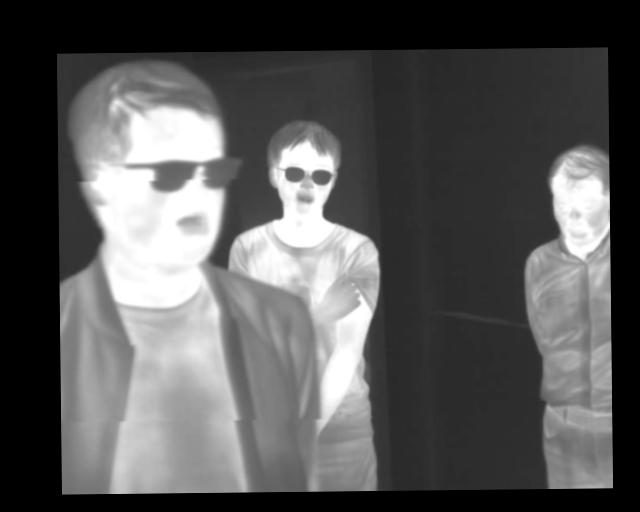face: (71, 56, 228, 269), (267, 118, 343, 218), (546, 142, 609, 247)
